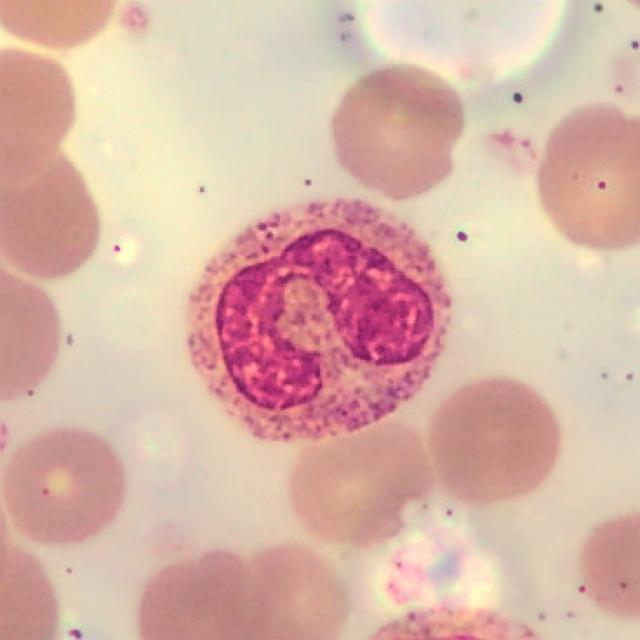Neutrofilo segmentado: (184, 199, 454, 445)
